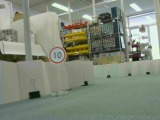speed_10: (48, 46, 66, 64)
